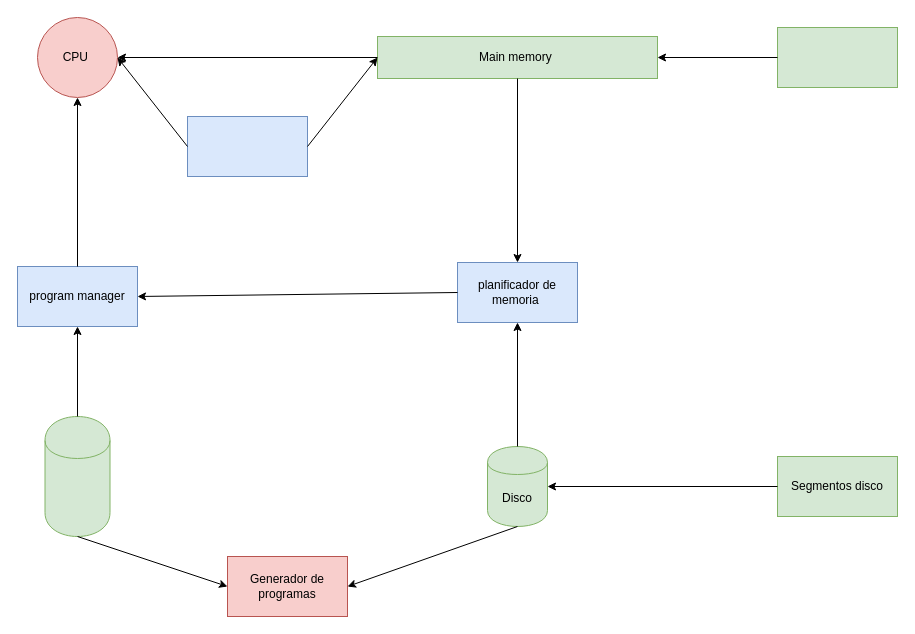
The diagram is 915 pixels wide and 634 high, and some of its shapes have lost their labels. The shapes that lost their labels are listed below. From the top down, each one's box as (x1, y1, x2, y2) in pixels, then its label:
(776, 26, 898, 88): Segmentos memoria
(186, 116, 308, 176): diccionario de direcciones
(44, 416, 110, 536): program stack
